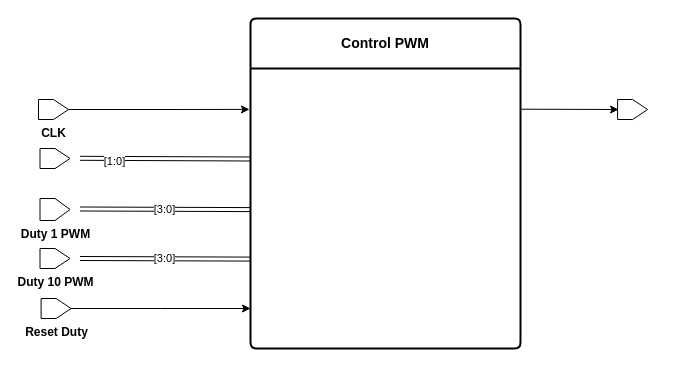
Image size: 679x366. Some labels were removed from this diagram. Here are the shapes that lost their labels. From the top down, the centre of each, then its label:
At point (632, 109): "OUT PWM".
At point (54, 158): "Frec Sel".
